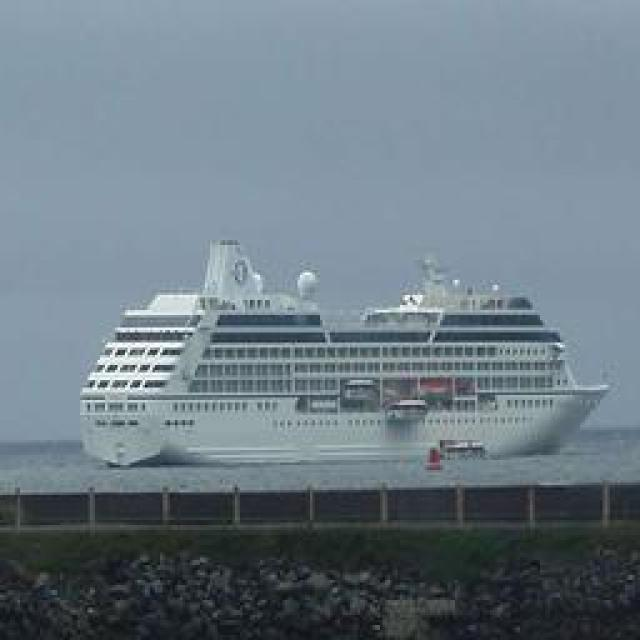Ship: (81, 235, 616, 480)
